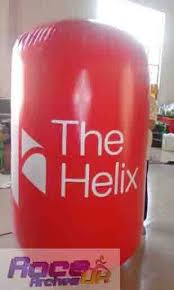buoy: (12, 19, 149, 272)
